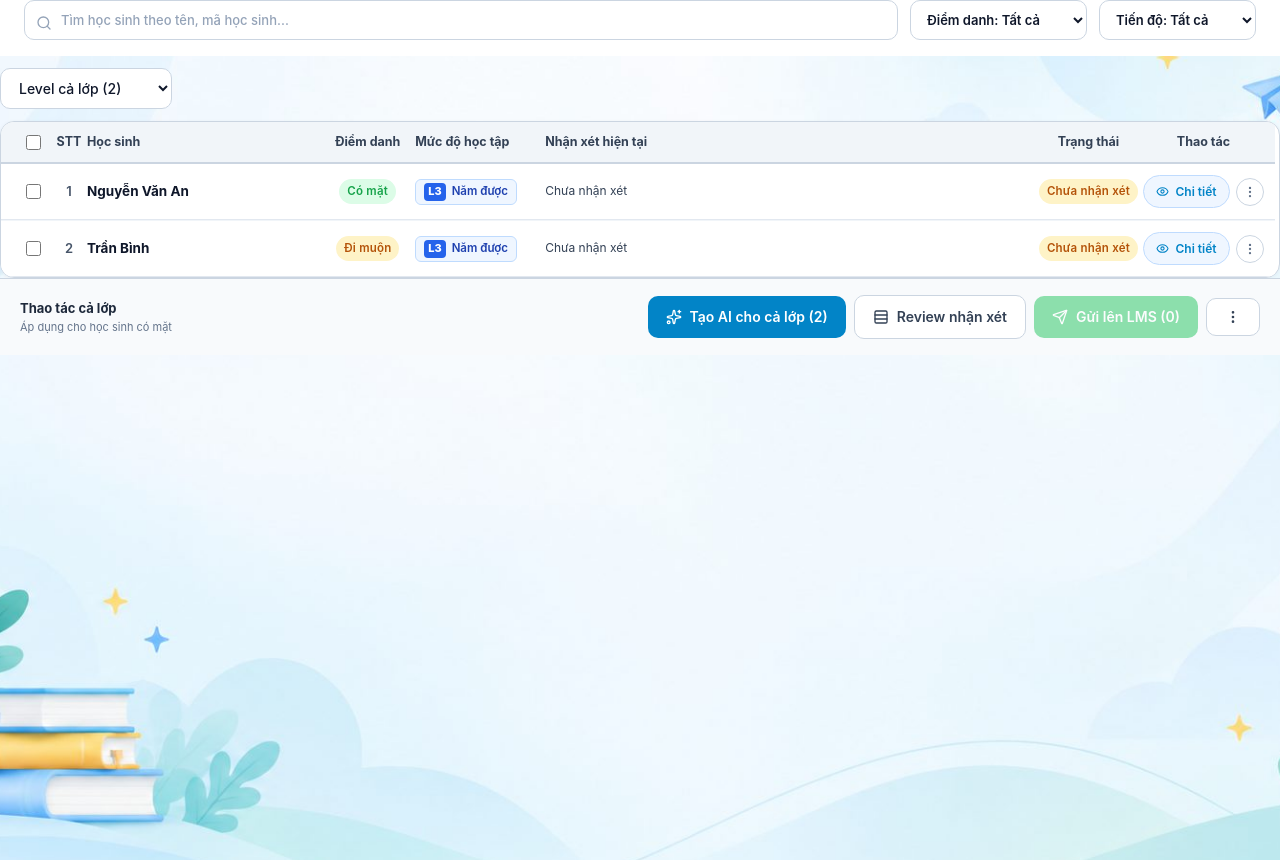
Test: regular assessment workspace › does not autosave note input and explicit save trims/persists note and current level
The width and height of the screenshot is (1280, 860).
Click the button "Nguyễn Văn An" at (138, 191), box [1,164,1275,220]
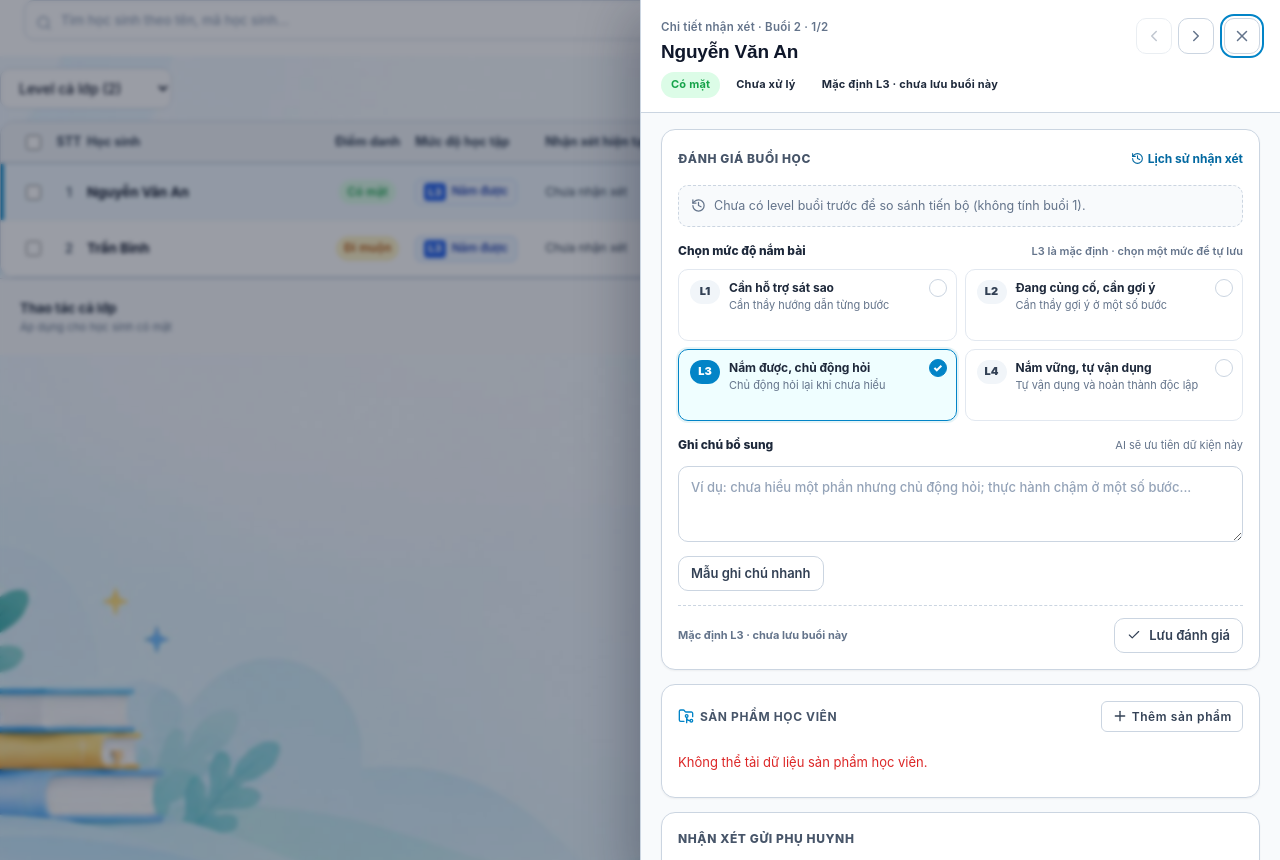
Type "  Chủ động hỏi  " into the text box labelled "Ghi chú bổ sung" at (960, 504), box [678,466,1243,542]
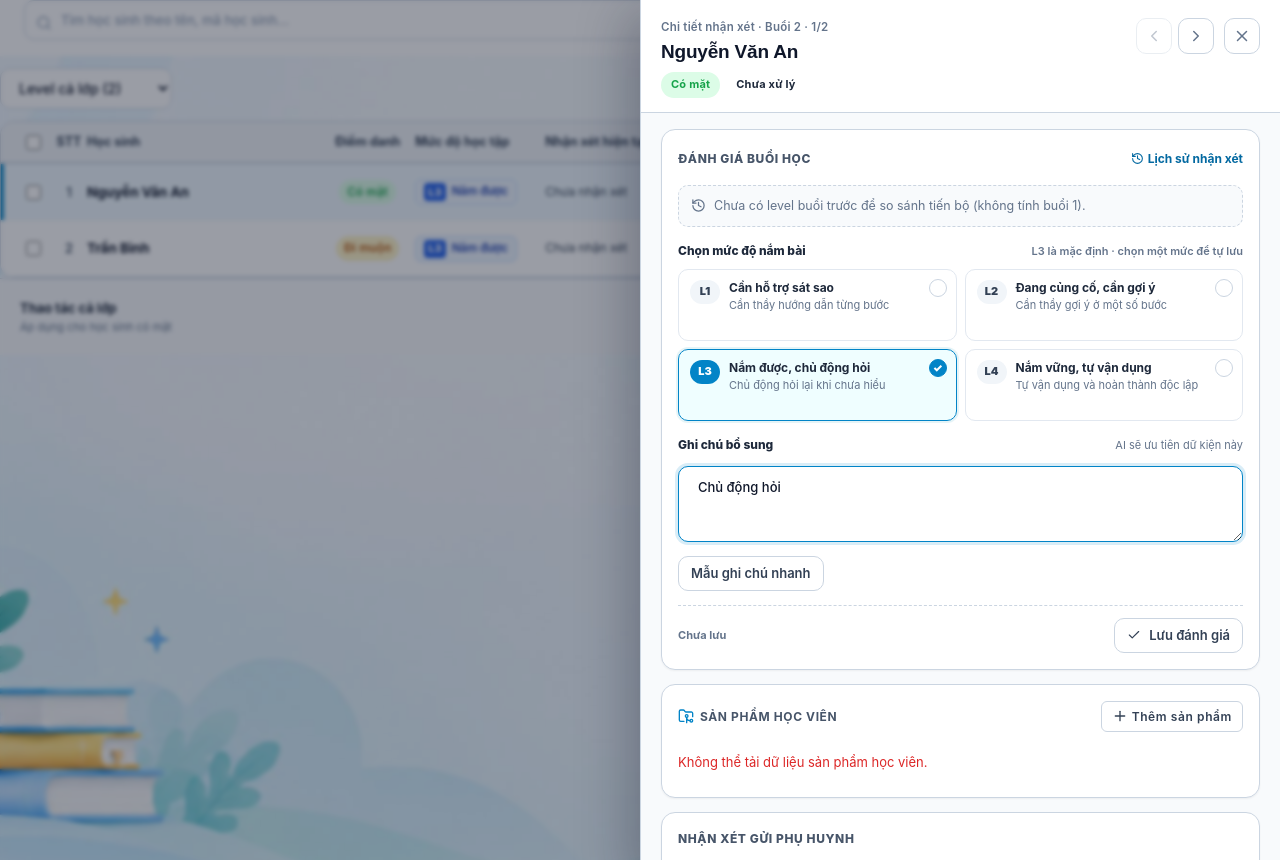
Result: the text "Chưa lưu" is shown at [678,628,726,642]
Click the button "Lưu đánh giá" at (1179, 635), box [1114,618,1243,653]
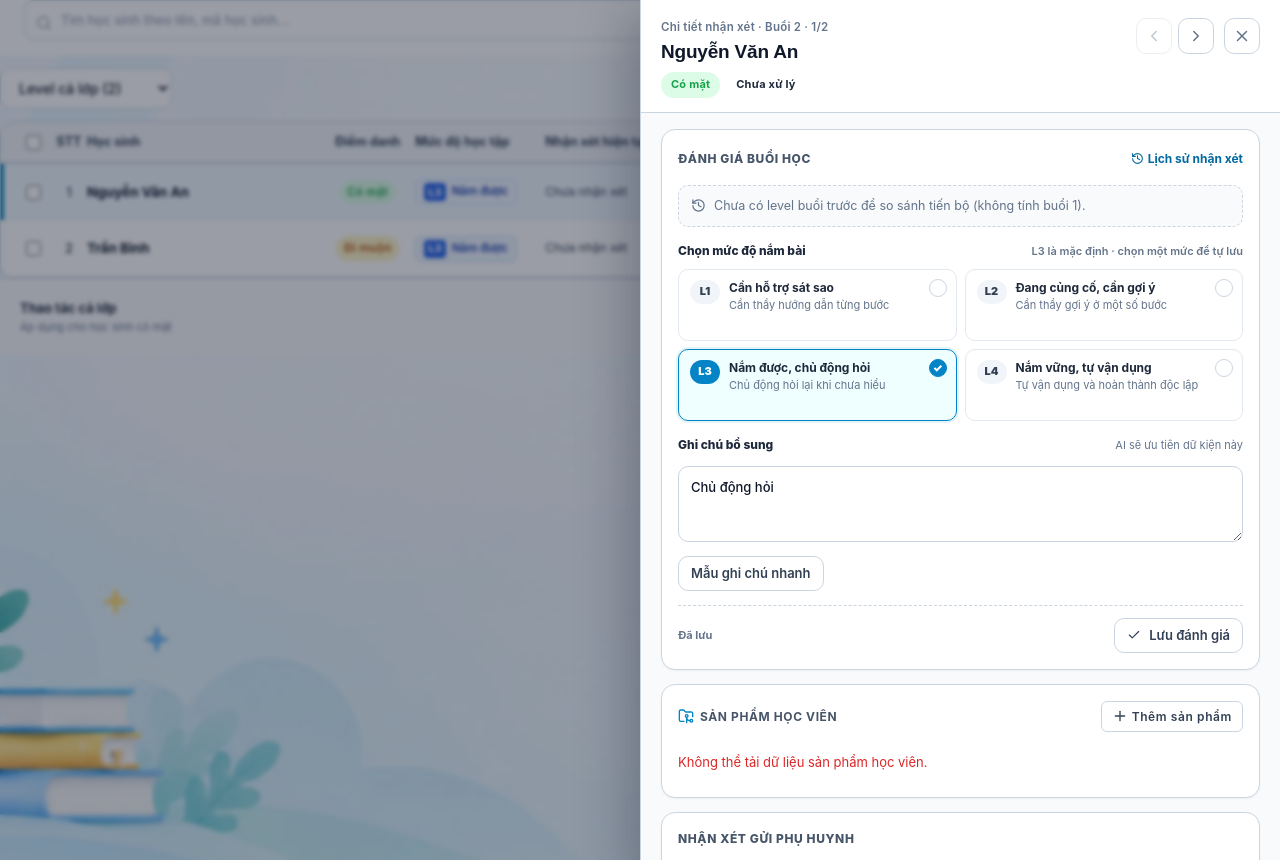
Result: the text "Đã lưu" is shown at [678,628,712,642]
